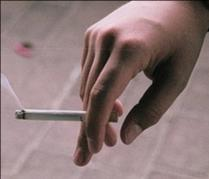Cigarette: (14, 108, 118, 122)
